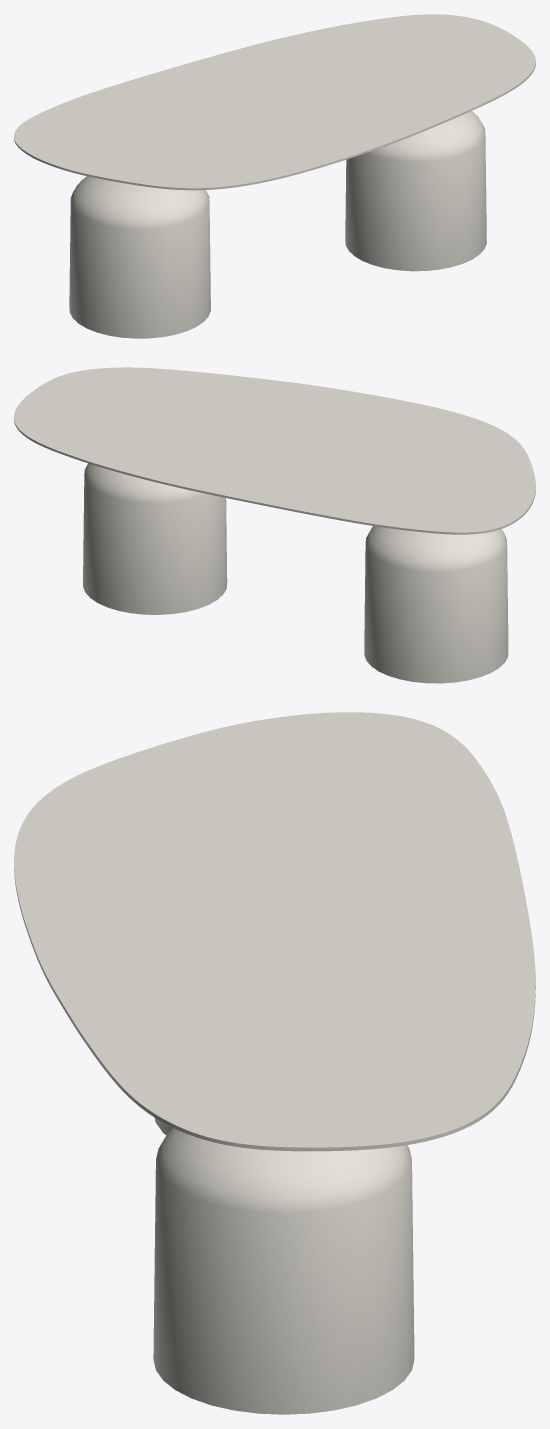
Rendered from pale_leaf2_facet_tornado.glb.
The picture shows the model from 3 angles, top to bottom: view 1: azimuth 30°, elevation 25°; view 2: azimuth 150°, elevation 25°; view 3: azimuth 270°, elevation 25°; orthographic projection. The views are drawn at different scales.
Parts seen in each view (by area): view 1: facet_leaf2, tornado; view 2: facet_leaf2, tornado; view 3: facet_leaf2, tornado.
Part boxes in pixels (x1,y1,x2,y2): facet_leaf2: (14,14,535,190); tornado: (69,111,486,338); facet_leaf2: (14,367,535,534); tornado: (83,463,508,683); facet_leaf2: (14,712,535,1151); tornado: (153,1117,414,1414).
Bounding box in the file's own units: 7.5 × 2.5 × 3.8.
Materials: 1 (1 with a texture image).
